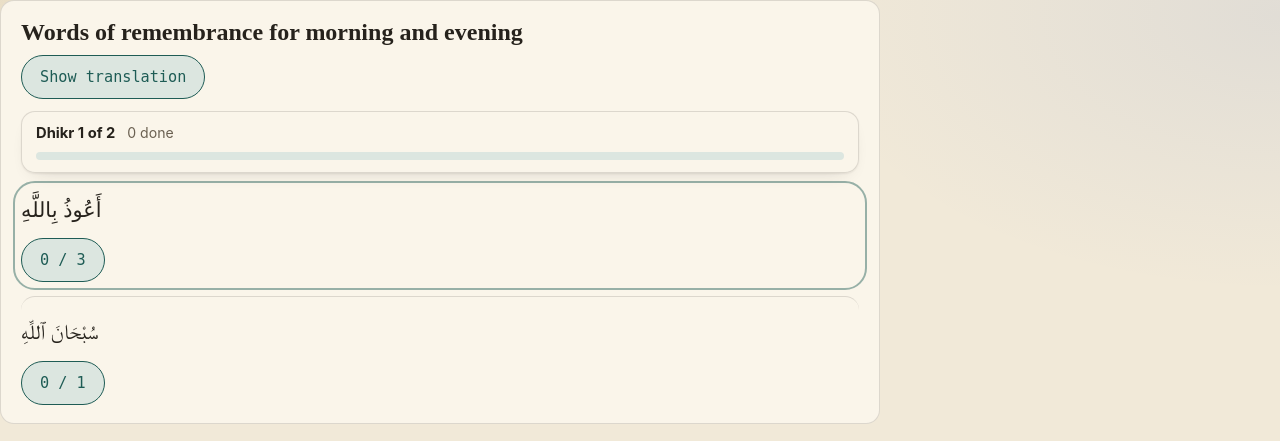
Test: AzkarList — progress › moves on to the next dhikr once one reaches its repeat count — and not before
Step 1. Click the button "0 / 3" → (63, 260), box 21,238 -> 105,282
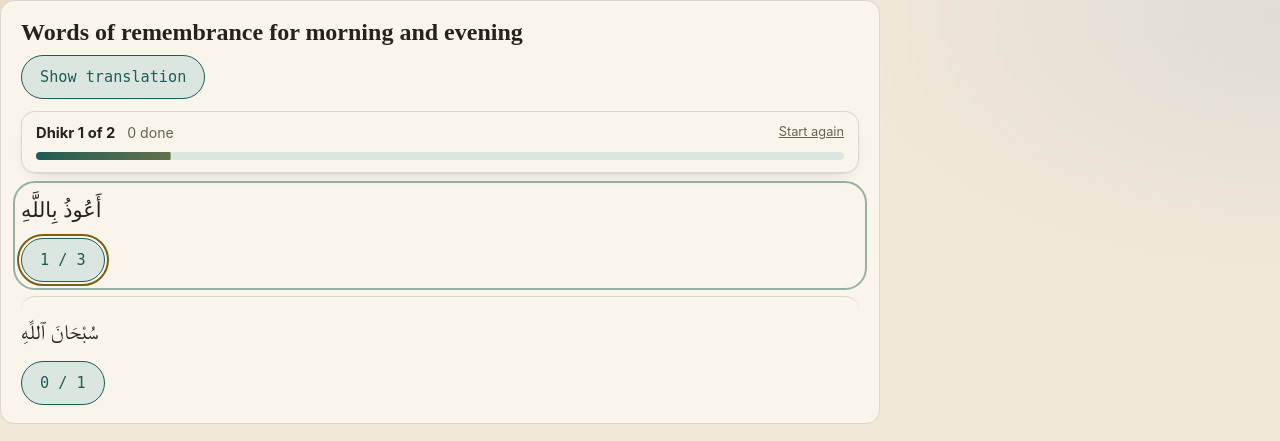
Step 2. Click the button "1 / 3" → (63, 260), box 21,238 -> 105,282
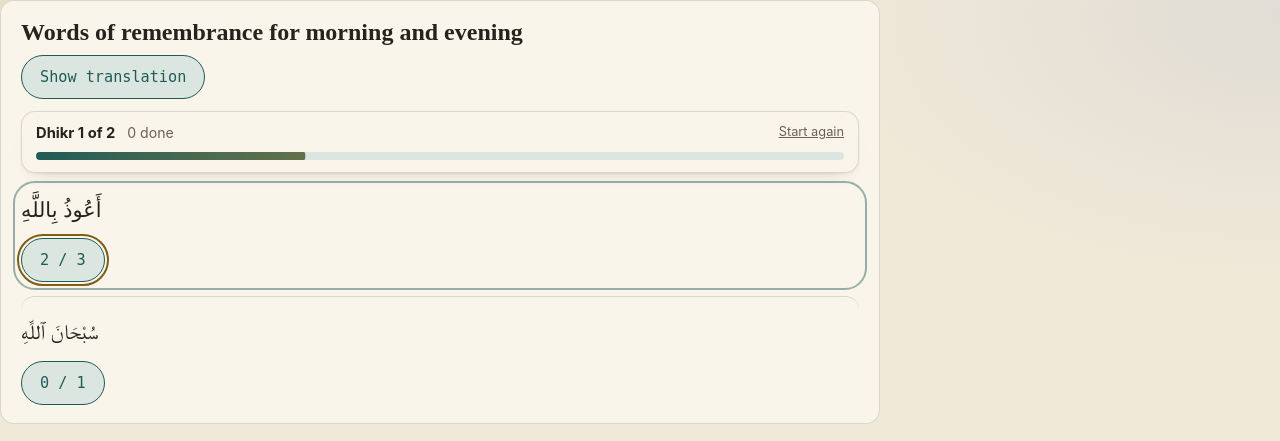
Expected: the button with aria-label "Go to the current dhikr" reads "Dhikr 1 of 2", 36,122 -> 115,144
Step 3. Click the button "2 / 3" → (63, 260), box 21,238 -> 105,282
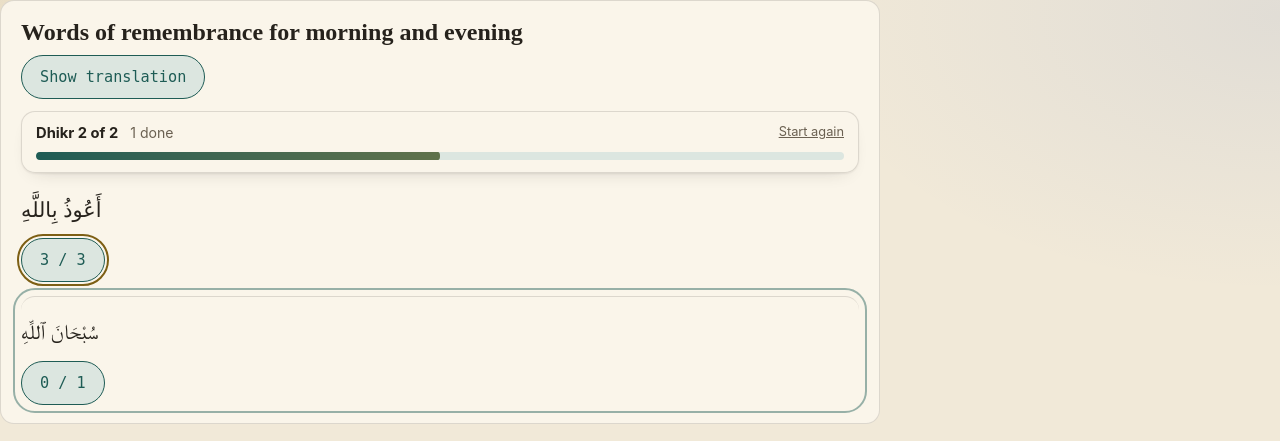
Now the button with aria-label "Go to the current dhikr" reads "Dhikr 2 of 2", box 36,122 -> 118,144
Now the text "1 done" is shown, box 130,122 -> 174,143
